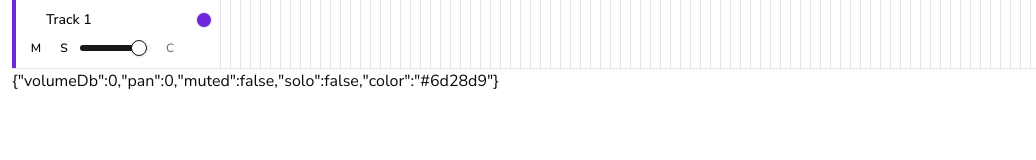
TrackLane control strip › renames the track on commit
Click the button with aria-label "Edit track name" at (118, 20), box [46, 10, 190, 30]
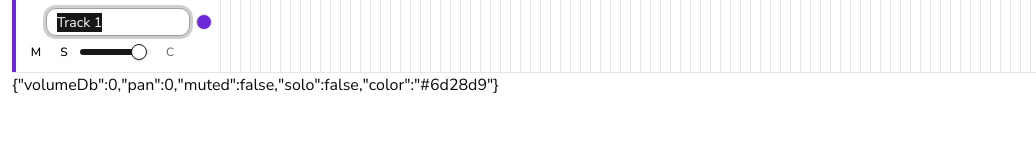
Replace the text in the field named "Track name" with "Drums" at (118, 22), box [46, 8, 190, 36]
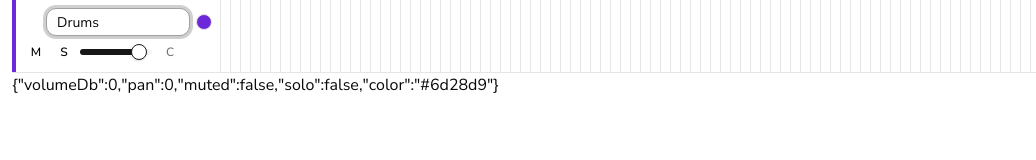
Press Tab
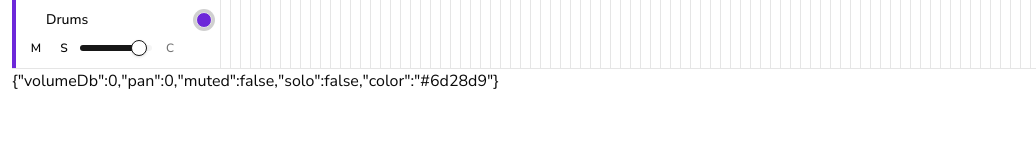
Expected: the button "Drums" is shown, [46, 10, 190, 30]
